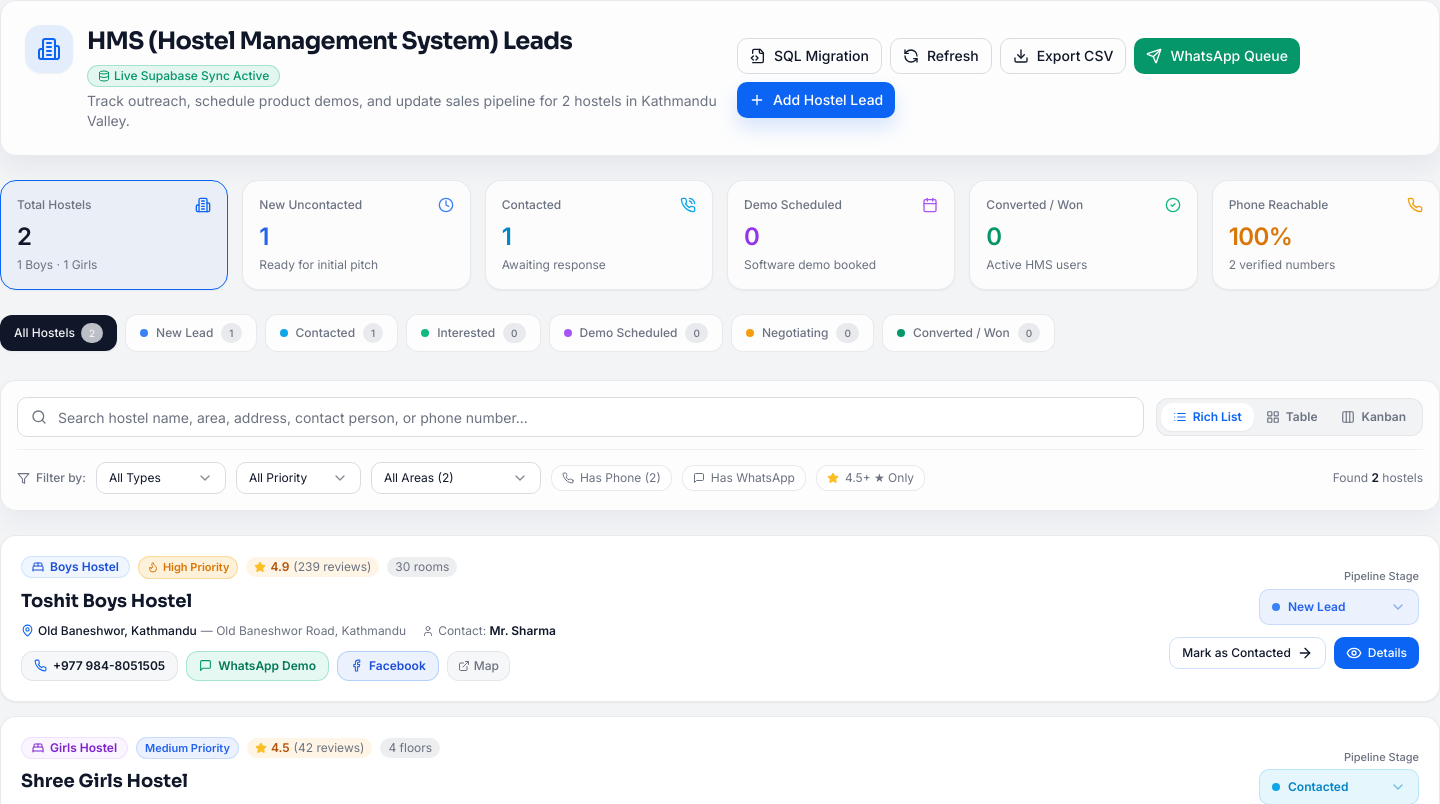
Scenario: AdminHmsLeadsManager › filters leads based on search query
This screenshot has width=1440, height=804.
Replace the text in the field with placeholder "Search hostel name" with "Toshit". click: (580, 417)
box: [17, 397, 1144, 437]
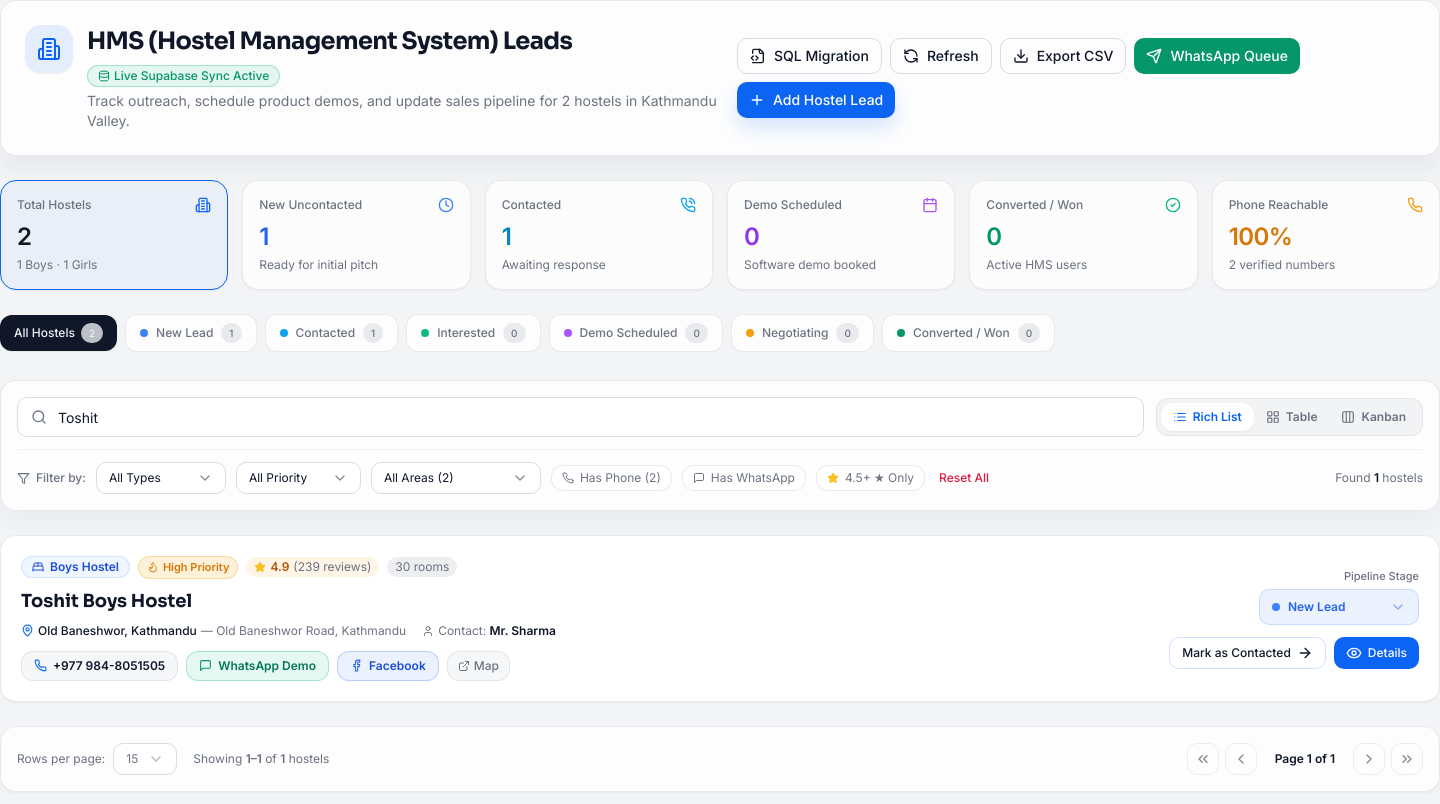
Check: the heading "Toshit Boys Hostel" is shown, box [21, 586, 192, 614]
Check: the heading "Shree Girls Hostel" is gone
